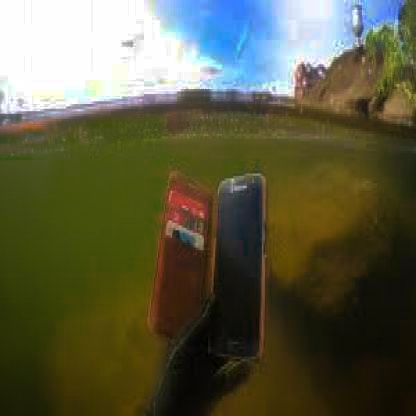cellphone: (212, 178, 265, 364)
